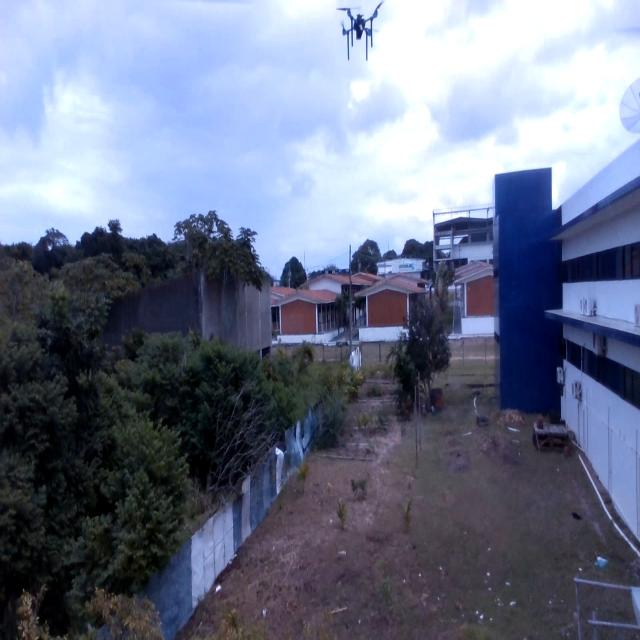-uav-: (332, 0, 388, 68)
